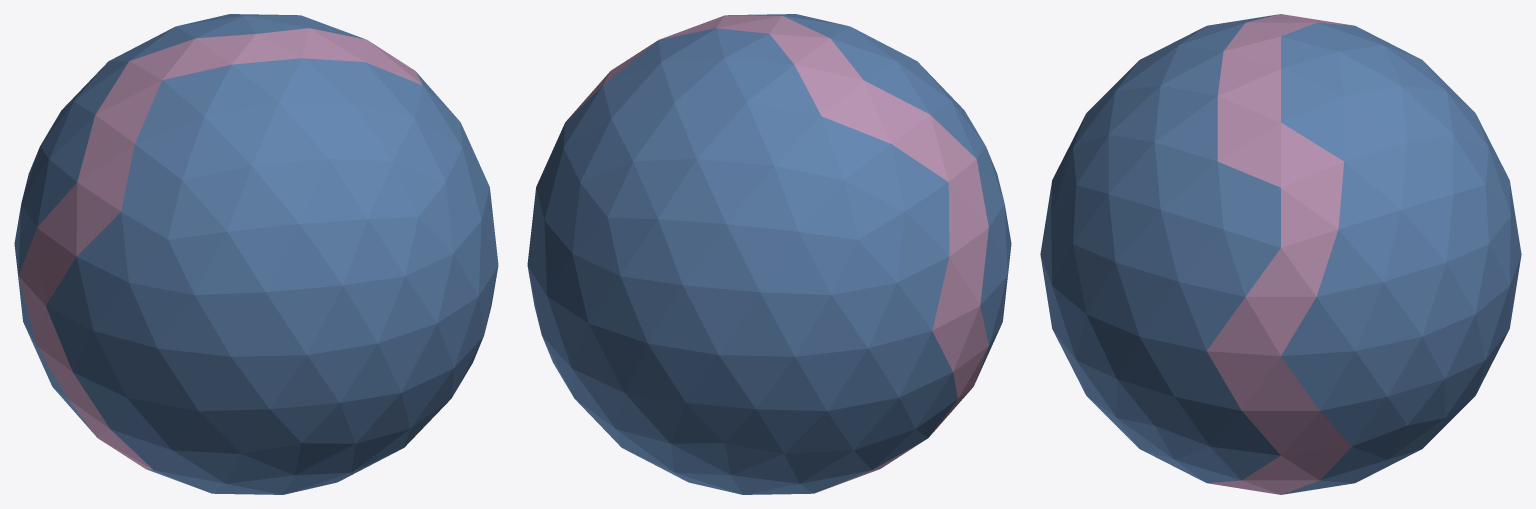
The model's file is Nord.fbx.
The picture shows the model from 3 angles, left to right: view 1: azimuth 30°, elevation 25°; view 2: azimuth 150°, elevation 25°; view 3: azimuth 270°, elevation 25°; orthographic projection.
Visible parts, largest first — view 1: Icosphere.193, Icosphere.126, Icosphere.104, Icosphere.120, Icosphere.192, Icosphere.110, Icosphere.166, Icosphere.127, Icosphere.161, Icosphere.105, Icosphere.109, Icosphere.116 (+112 smaller); view 2: Icosphere.271, Icosphere.232, Icosphere.270, Icosphere.300, Icosphere.299, Icosphere.302, Icosphere.229, Icosphere.204, Icosphere.233, Icosphere.231, Icosphere.303, Icosphere.226 (+112 smaller); view 3: Icosphere.018, Icosphere.017, Icosphere.130, Icosphere.245, Icosphere.194, Icosphere.313, Icosphere.054, Icosphere.068, Icosphere.077, Icosphere.179, Icosphere.317, Icosphere.129 (+111 smaller).
Part boxes in pixels (x1,y1,x2,y2): Icosphere.193: [266, 285, 342, 354]; Icosphere.126: [266, 224, 342, 292]; Icosphere.104: [231, 292, 306, 356]; Icosphere.120: [252, 159, 328, 223]; Icosphere.192: [252, 102, 328, 165]; Icosphere.110: [227, 224, 299, 291]; Icosphere.166: [227, 166, 298, 231]; Icosphere.127: [307, 285, 377, 354]; Icosphere.161: [194, 292, 265, 356]; Icosphere.105: [195, 232, 265, 294]; Icosphere.109: [299, 219, 367, 284]; Icosphere.116: [205, 102, 278, 165]; Icosphere.271: [683, 285, 759, 354]; Icosphere.232: [683, 224, 759, 292]; Icosphere.270: [719, 292, 794, 356]; Icosphere.300: [697, 159, 773, 223]; Icosphere.299: [697, 102, 773, 165]; Icosphere.302: [726, 224, 798, 291]; Icosphere.229: [727, 166, 798, 231]; Icosphere.204: [648, 285, 718, 354]; Icosphere.233: [760, 292, 831, 356]; Icosphere.231: [760, 232, 830, 294]; Icosphere.303: [658, 219, 726, 284]; Icosphere.226: [747, 102, 820, 165]; Icosphere.018: [1281, 351, 1354, 410]; Icosphere.017: [1207, 351, 1280, 410]; Icosphere.130: [1140, 282, 1206, 350]; Icosphere.245: [1355, 282, 1421, 350]; Icosphere.194: [1115, 262, 1178, 336]; Icosphere.313: [1383, 262, 1446, 336]; Icosphere.054: [1281, 297, 1354, 355]; Icosphere.068: [1207, 297, 1280, 355]; Icosphere.077: [1242, 356, 1319, 410]; Icosphere.179: [1179, 282, 1244, 350]; Icosphere.317: [1317, 282, 1382, 350]; Icosphere.129: [1115, 210, 1178, 281].
Bounding box in the file's own units: 20 × 20 × 20.
